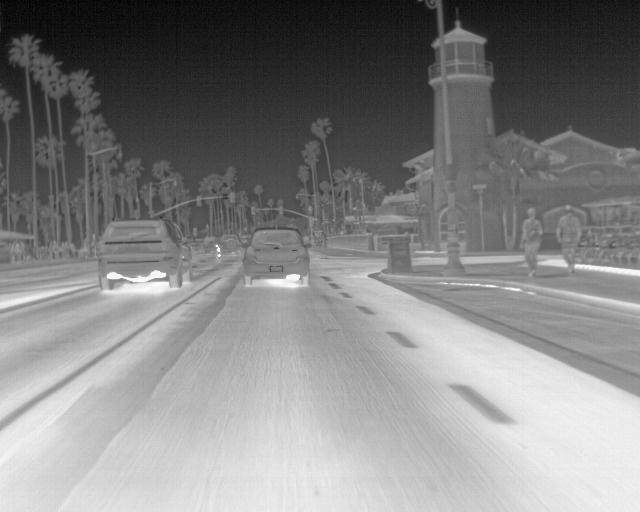bicycle: (95, 218, 188, 293), (240, 226, 315, 290), (217, 233, 243, 254)
empty: (518, 204, 545, 278), (556, 202, 583, 271)
